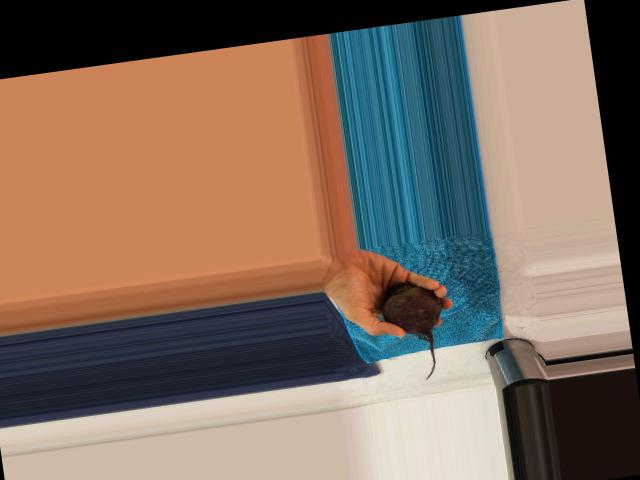beet: (378, 276, 452, 384)
